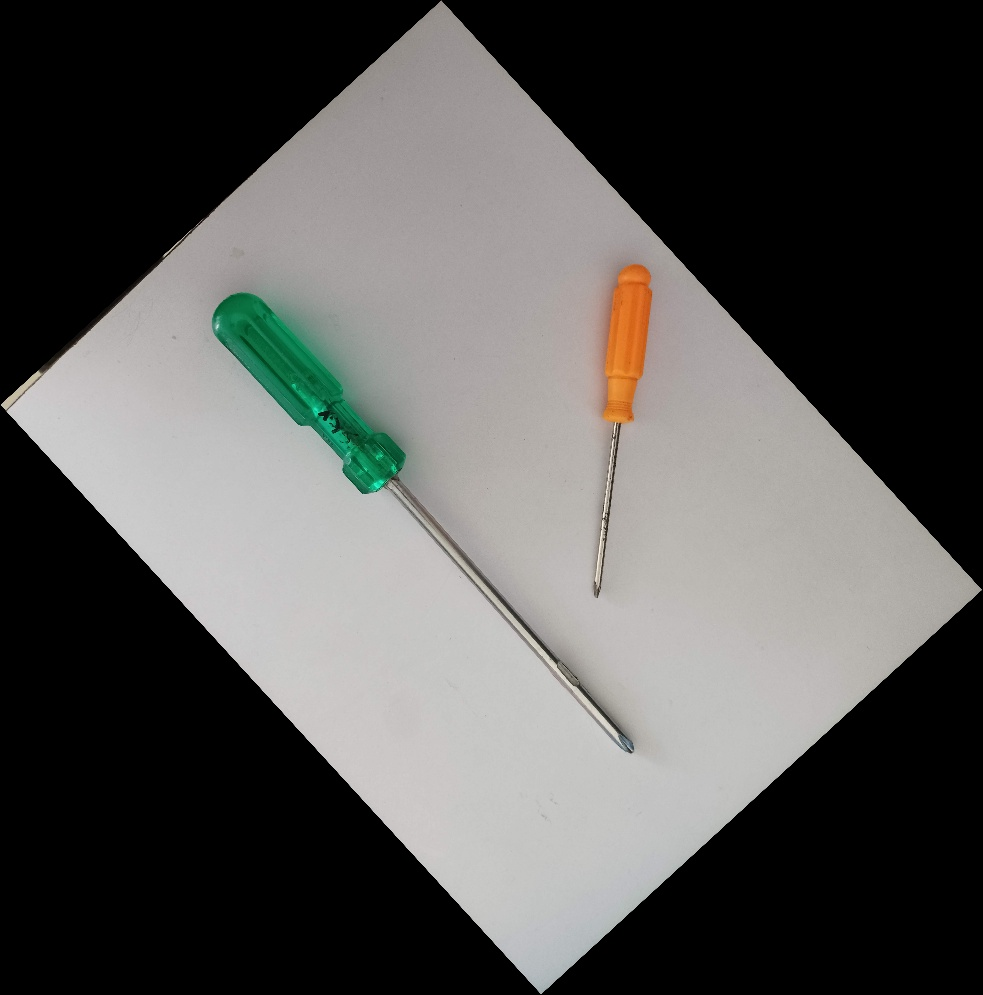screwdriver: (210, 289, 638, 759), (585, 259, 656, 601)
